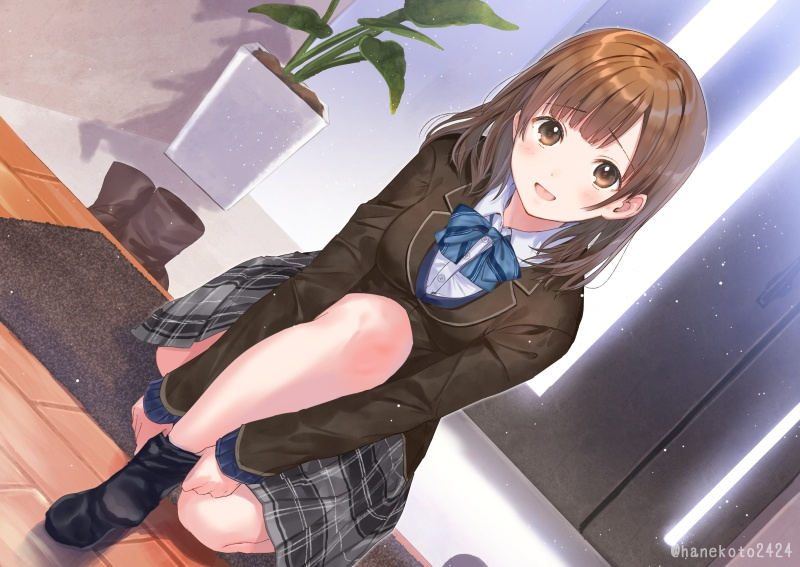纸片人正脸: (508, 26, 713, 230)
